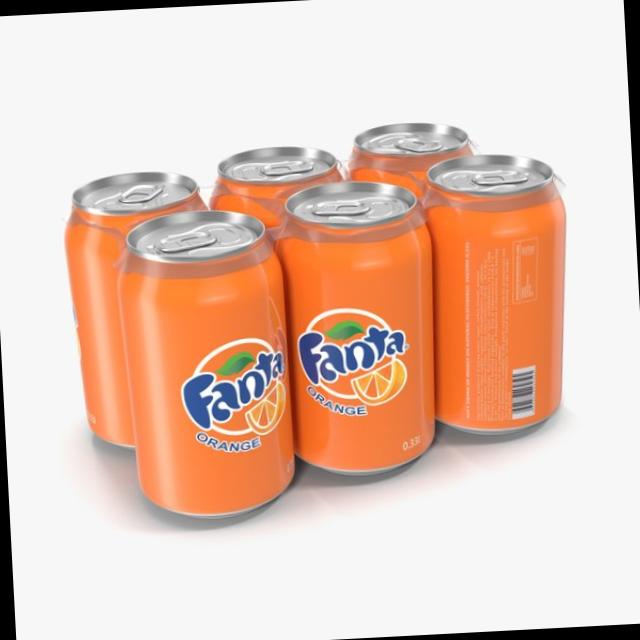fanta: (110, 217, 301, 532), (271, 185, 439, 487)
